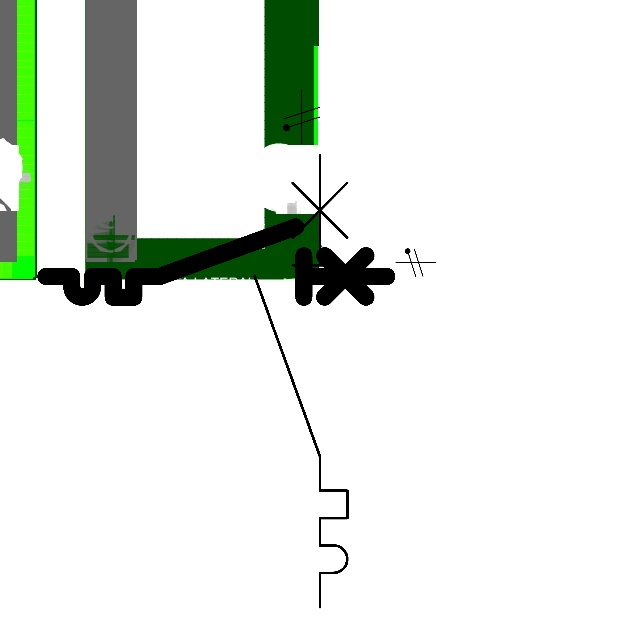interruptor_termomagnetico: (243, 143, 359, 618), (37, 218, 395, 306)
